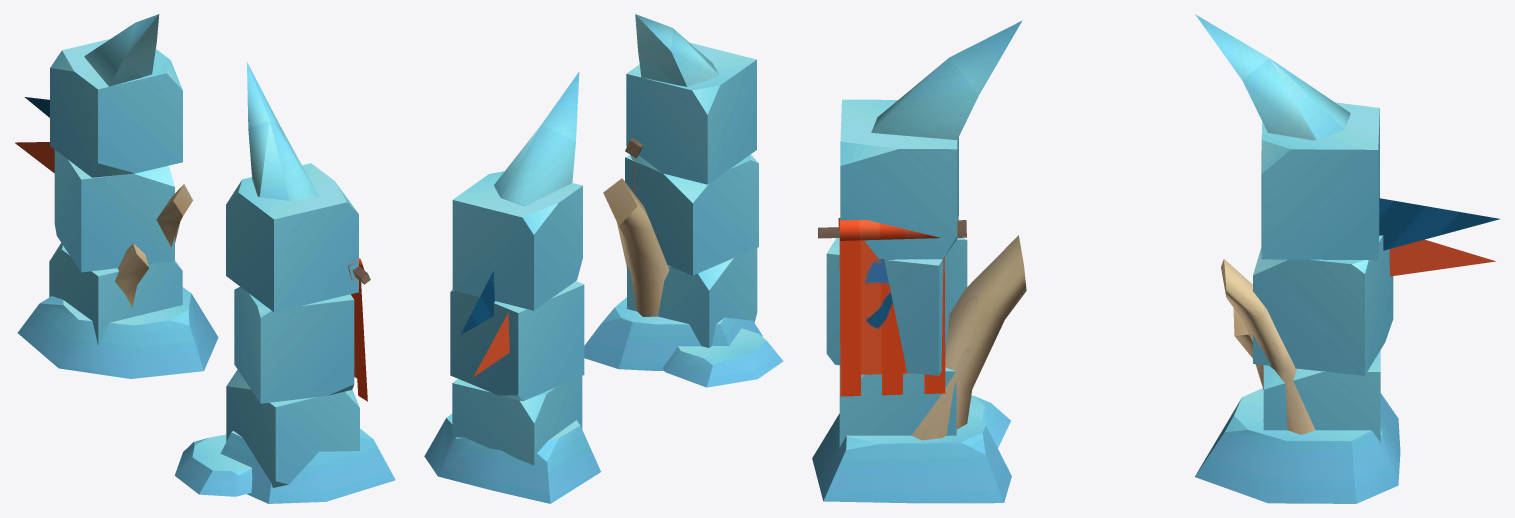
The model's file is WallEntrance2B-001_40_13_6864.fbx.
The picture shows the model from 3 angles, left to right: view 1: azimuth 30°, elevation 25°; view 2: azimuth 150°, elevation 25°; view 3: azimuth 270°, elevation 25°; orthographic projection. The views are drawn at different scales.
Visible parts, largest first — view 1: IceBlock3 (1) (×2), SnowArch1 (1), IceBlock2 (1) (×2), IceBlock3 (×2), Icicle3 (2), Icicle3 (3), Flag4 (1), Flag1.001 (1); view 2: IceBlock3 (1) (×2), SnowArch1 (1), IceBlock2 (1) (×2), IceBlock3 (×2), Icicle3 (3), Icicle3 (2), Flag1.001 (1) (×2); view 3: SnowArch1 (1), IceBlock3 (1) (×2), IceBlock2 (1) (×2), IceBlock3 (×2), Flag4 (1), Icicle3 (2), Icicle3 (3), Flag1.001 (1) (×2), ClothTop5 (1).
Boxes of the visible parts, left/top/right/bottom form: IceBlock3 (1) (×2): left=50, top=39, right=358, bottom=312; SnowArch1 (1): left=17, top=184, right=395, bottom=503; IceBlock2 (1) (×2): left=54, top=150, right=354, bottom=403; IceBlock3 (×2): left=49, top=243, right=359, bottom=487; Icicle3 (2): left=247, top=62, right=318, bottom=200; Icicle3 (3): left=84, top=14, right=159, bottom=86; Flag4 (1): left=351, top=265, right=367, bottom=401; Flag1.001 (1): left=15, top=142, right=54, bottom=173; IceBlock3 (1) (×2): left=452, top=42, right=756, bottom=310; SnowArch1 (1): left=424, top=178, right=783, bottom=503; IceBlock2 (1) (×2): left=450, top=154, right=758, bottom=401; IceBlock3 (×2): left=452, top=248, right=757, bottom=465; Icicle3 (3): left=494, top=72, right=579, bottom=206; Icicle3 (2): left=635, top=14, right=719, bottom=86; Flag1.001 (1) (×2): left=460, top=271, right=509, bottom=376; SnowArch1 (1): left=812, top=235, right=1400, bottom=503; IceBlock3 (1) (×2): left=840, top=99, right=1379, bottom=260; IceBlock2 (1) (×2): left=826, top=235, right=1393, bottom=375; IceBlock3 (×2): left=839, top=350, right=1380, bottom=446; Flag4 (1): left=839, top=227, right=945, bottom=396; Icicle3 (2): left=871, top=20, right=1022, bottom=139; Icicle3 (3): left=1195, top=14, right=1350, bottom=140; Flag1.001 (1) (×2): left=1379, top=198, right=1499, bottom=276; ClothTop5 (1): left=838, top=218, right=940, bottom=240.
Bounding box in the file's own units: 2.63 × 5.39 × 7.5.
